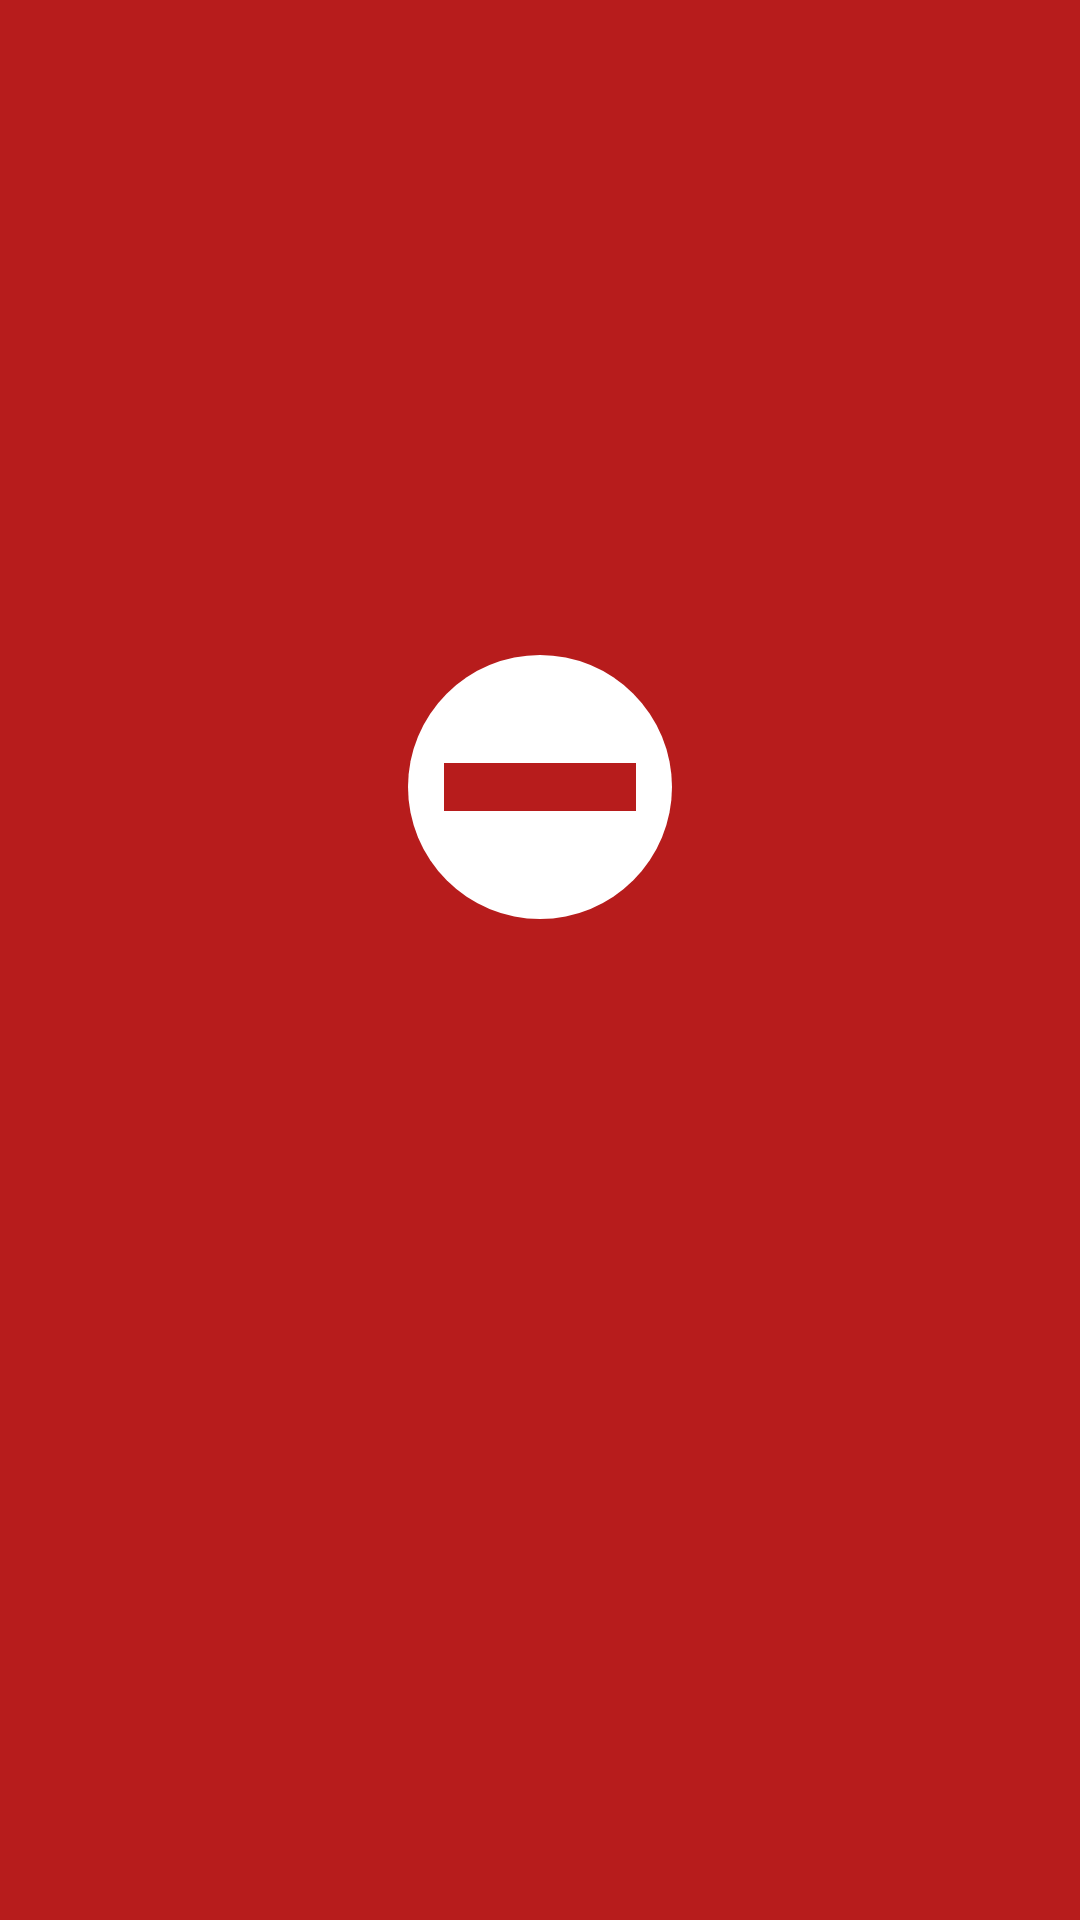

Screen size 1080 × 1920. Icon name, then its box in pixels as (left=x1, top=y1, right=x2, bottom=y2):
blocked: (left=408, top=655, right=672, bottom=919)
